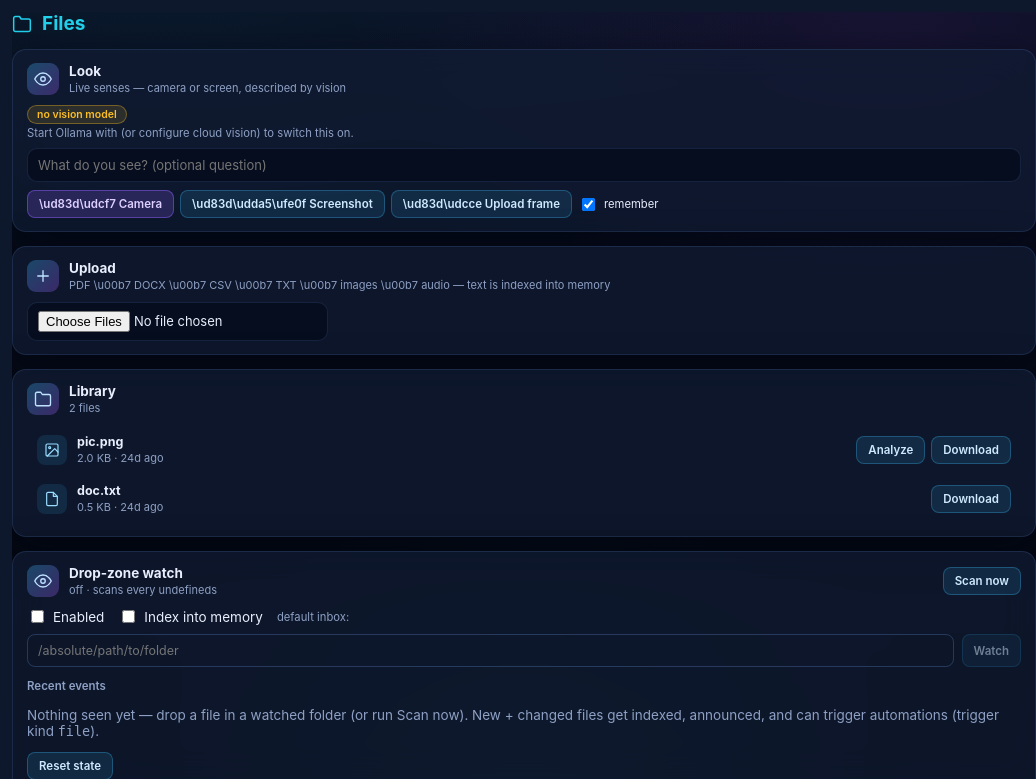
Test: FilesView vision › offers Analyze on images and renders the description
Expected: the text "pic.png" is shown, [77,434,123,449]
Expected: the text "doc.txt" is shown, [77,483,121,498]
What coordinates should you click on to do the following:
click the button "Analyze"
I would click on:
 (891, 450)
Its box is [856,436,925,464].
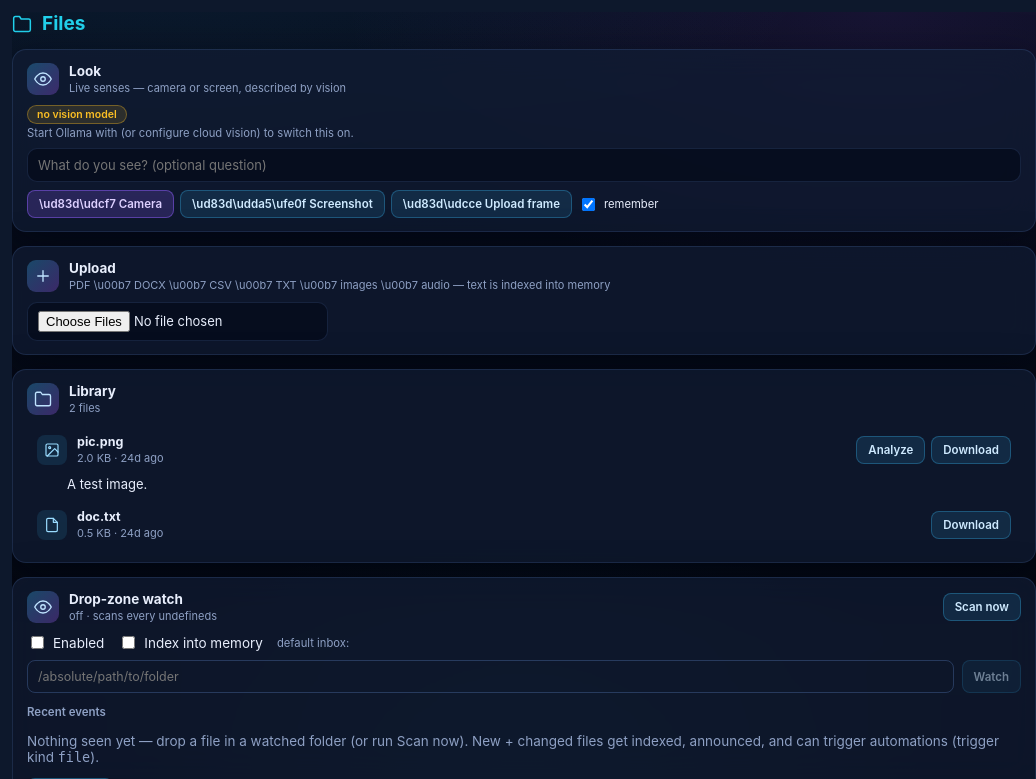
Now the text "A test image." is shown, box [67,476,147,492]
